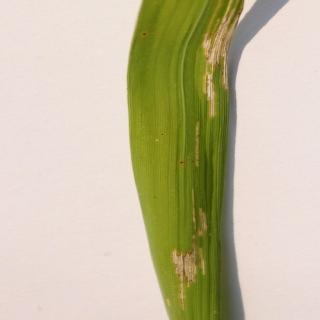Hawar-Daun: (164, 178, 226, 304), (198, 5, 252, 114)
